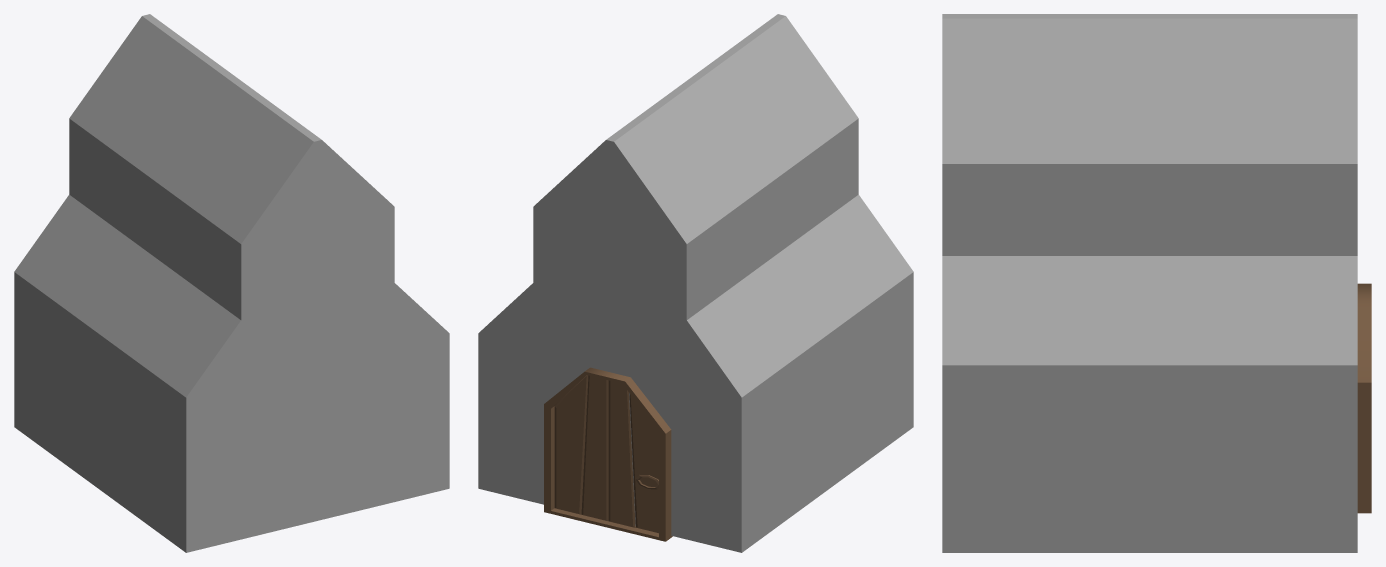
3 views of the same model, side by side, from view 1: azimuth 30°, elevation 25°; view 2: azimuth 150°, elevation 25°; view 3: azimuth 270°, elevation 25° (orthographic). The views are drawn at different scales.
Visible parts, largest first — view 1: pCube35; view 2: pCube35; view 3: pCube35.
Part boxes in pixels (x1,y1,x2,y2): pCube35: [14, 14, 449, 552]; pCube35: [478, 14, 913, 552]; pCube35: [942, 14, 1371, 552].
Size of the model in its own units: 6.1 by 8.44 by 7.12.
